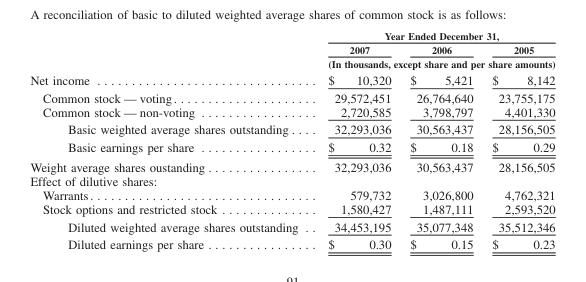table: (29, 29, 554, 251)
table column: (29, 29, 312, 251), (312, 29, 399, 251), (399, 29, 482, 251), (482, 29, 554, 251)
table column header: (29, 29, 554, 70)
table projected row header: (29, 174, 554, 187)
table row: (29, 137, 554, 156), (29, 70, 554, 88), (29, 156, 554, 174), (29, 217, 554, 235), (29, 120, 554, 137), (29, 88, 554, 104), (29, 104, 554, 120), (29, 201, 554, 217), (29, 235, 554, 251), (29, 55, 554, 70), (29, 187, 554, 201), (29, 29, 554, 42), (29, 42, 554, 55), (29, 174, 554, 187)
table spanning cell: (312, 55, 554, 70), (312, 29, 554, 42)
